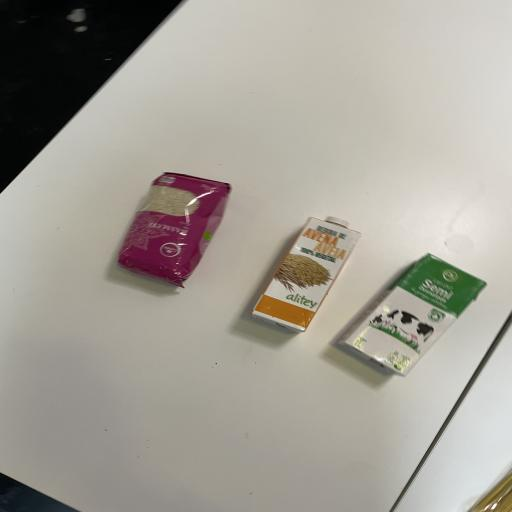milk: (337, 248, 486, 388)
oat_milk: (244, 210, 363, 334)
rice: (110, 168, 236, 290)
